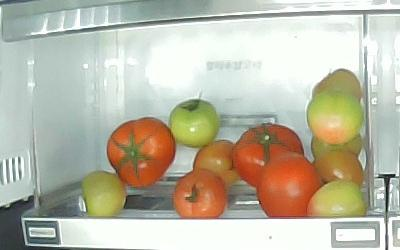tomato: (105, 117, 175, 189), (233, 122, 305, 186), (257, 153, 322, 219), (306, 91, 364, 143), (171, 170, 226, 219), (169, 98, 219, 148), (193, 140, 240, 189), (307, 181, 366, 218), (81, 171, 126, 217), (311, 151, 363, 185), (312, 68, 363, 101), (311, 132, 363, 158)
